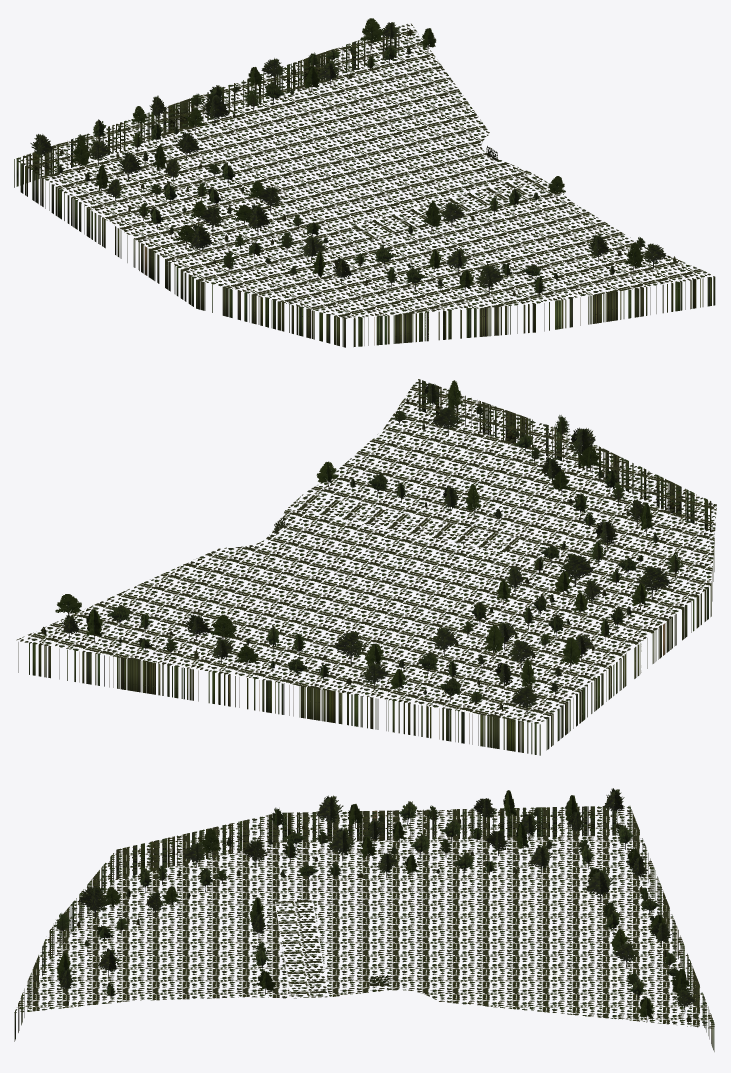
File: redring9.glb
The picture shows the model from 3 angles, top to bottom: view 1: azimuth 30°, elevation 25°; view 2: azimuth 150°, elevation 25°; view 3: azimuth 270°, elevation 25°; orthographic projection. The views are drawn at different scales.
Visible parts, largest first — view 1: redring9; view 2: redring9; view 3: redring9.
Boxes of the visible parts, <box> form: redring9: <box>14,18,715,347</box>; redring9: <box>16,379,716,755</box>; redring9: <box>14,788,714,1051</box>.
Bounding box in the file's own units: 211 × 27.23 × 281.
Materials: 1 (1 with a texture image).
